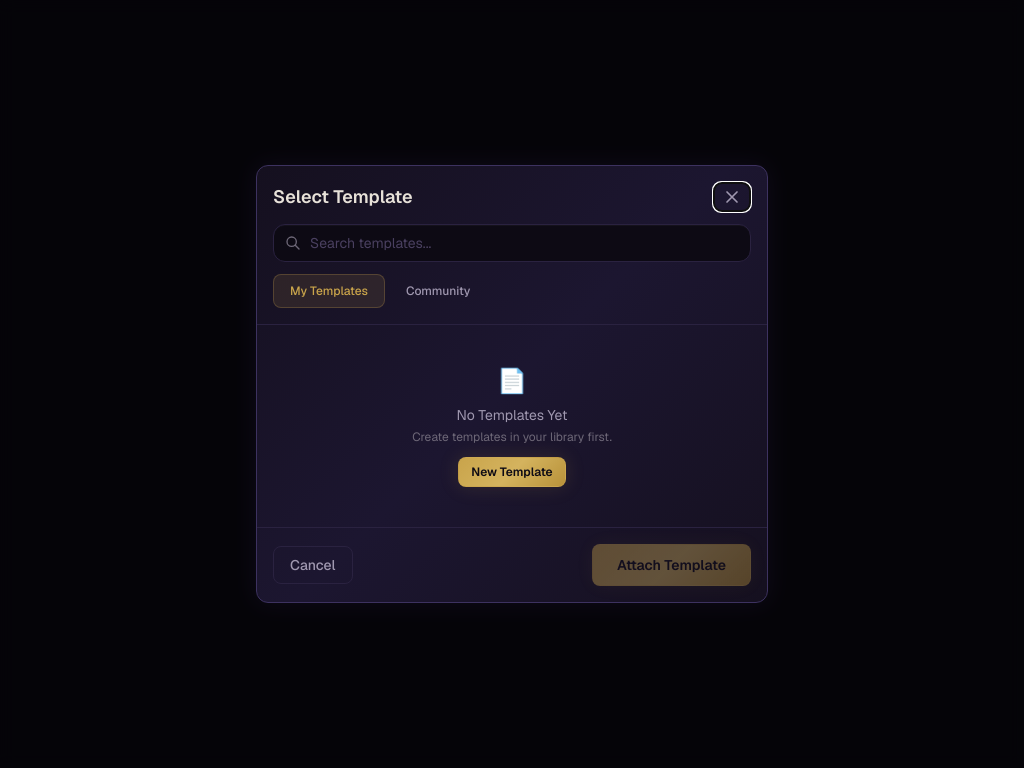
Test: TemplatePickerModal › shows empty state with a link to create a template
Expected: the text "No Templates Yet" is shown, [456,405,567,425]
Expected: the text "Create templates in your library first." is shown, [412,429,612,445]
Searching hides the create-template call to action
Type "nope" into the field with placeholder "Search templates..." at x=512, y=243, box [273,224,751,262]
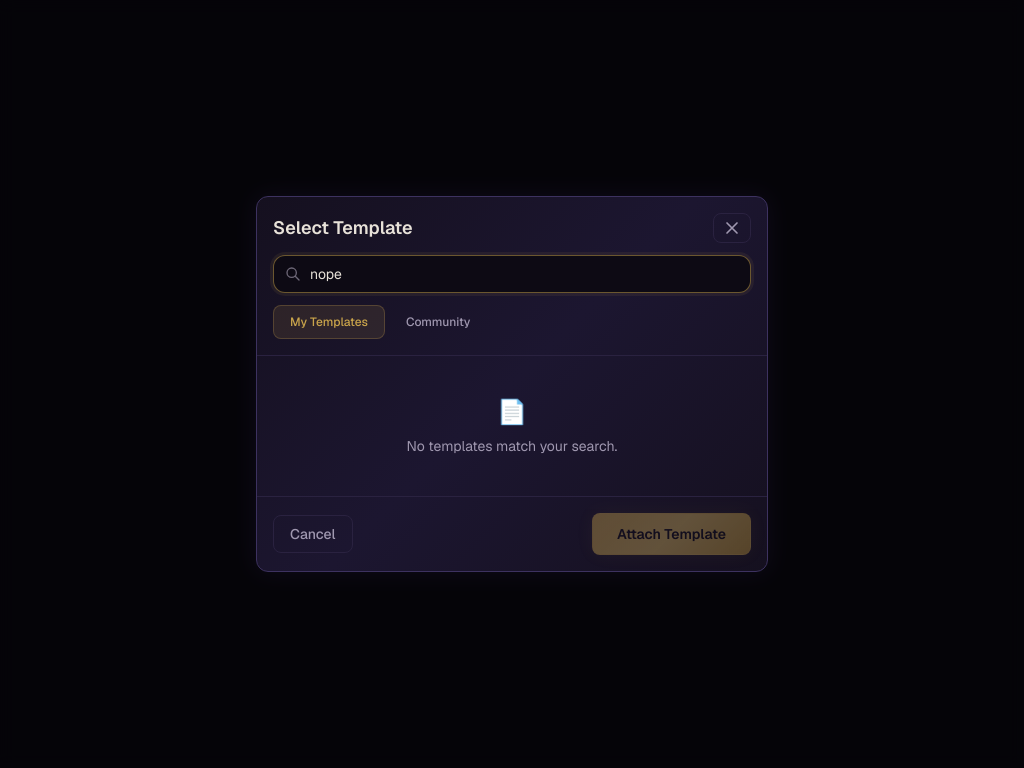
Now the text "No templates match your search." is shown, box [406,436,617,456]
Now the text "Create templates in your library first." is gone
